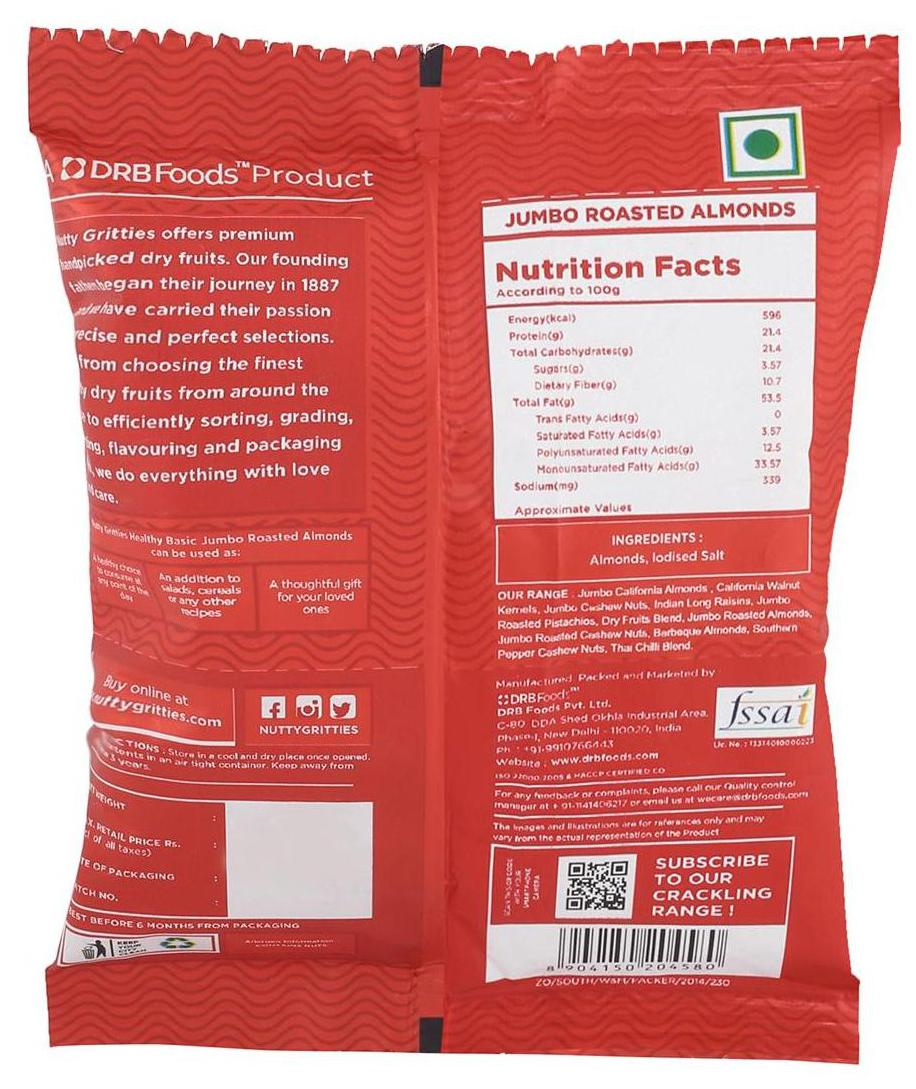fssai: (720, 691, 809, 731)
